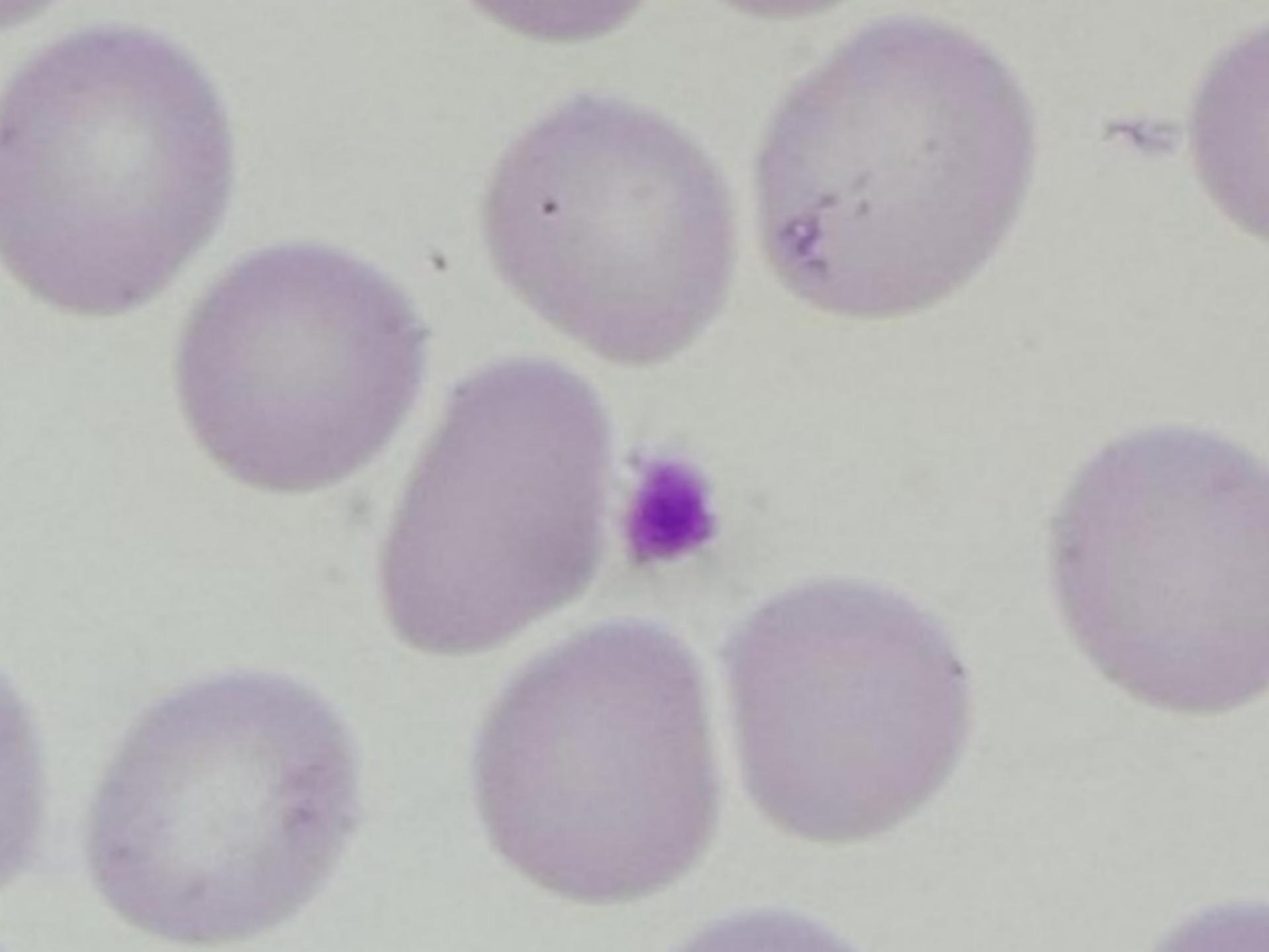Uninfected: (752, 20, 1037, 314), (91, 669, 355, 941), (478, 620, 717, 903), (0, 28, 226, 315), (383, 359, 601, 654), (734, 582, 969, 841), (1054, 428, 1269, 711), (492, 101, 722, 364), (187, 245, 420, 491)
